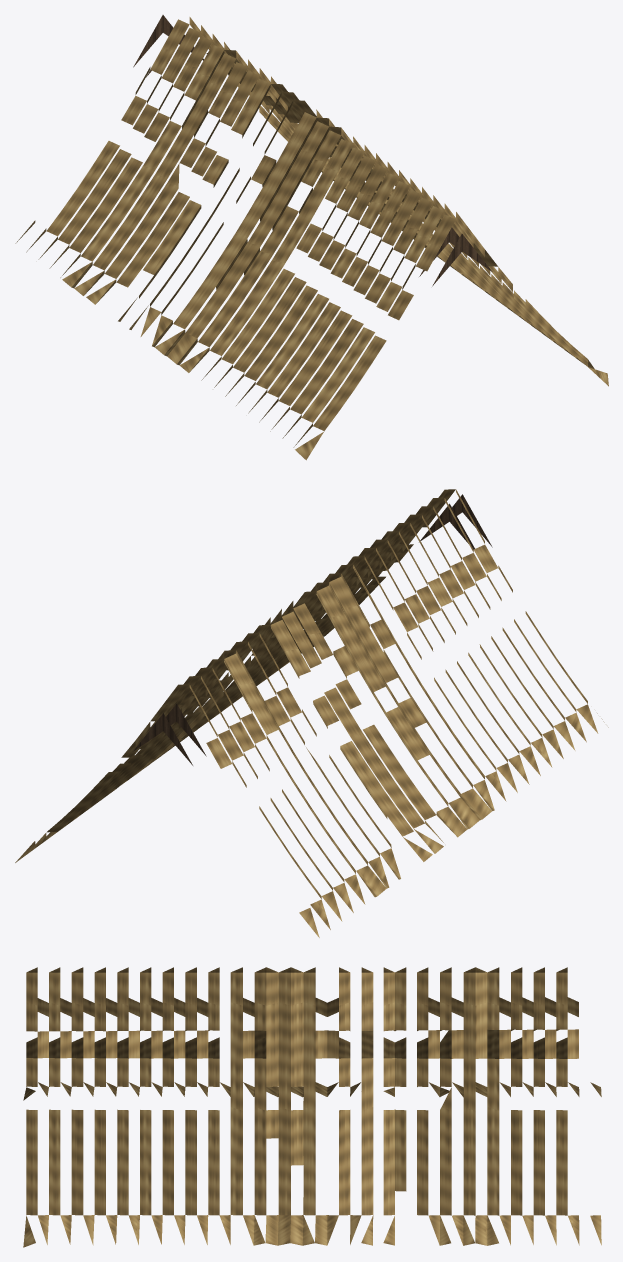
The model's file is Roof_Thatch_6x12_LOD1.gltf.
3 views of the same model, one above another, from view 1: azimuth 30°, elevation 25°; view 2: azimuth 150°, elevation 25°; view 3: azimuth 270°, elevation 25° (orthographic).
Visible parts, largest first — view 1: Roof_Thatch_6x12_LOD1; view 2: Roof_Thatch_6x12_LOD1; view 3: Roof_Thatch_6x12_LOD1.
Part boxes in pixels (left/top/right/bottom): Roof_Thatch_6x12_LOD1: left=15, top=15, right=608, bottom=460; Roof_Thatch_6x12_LOD1: left=15, top=489, right=608, bottom=937; Roof_Thatch_6x12_LOD1: left=23, top=967, right=601, bottom=1247.
Size of the model in its own units: 8.25 by 5.17 by 13.66.
2 materials, 2 textured.
